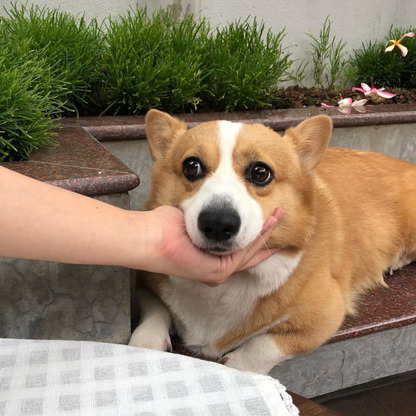Corgi: (120, 92, 372, 357)
